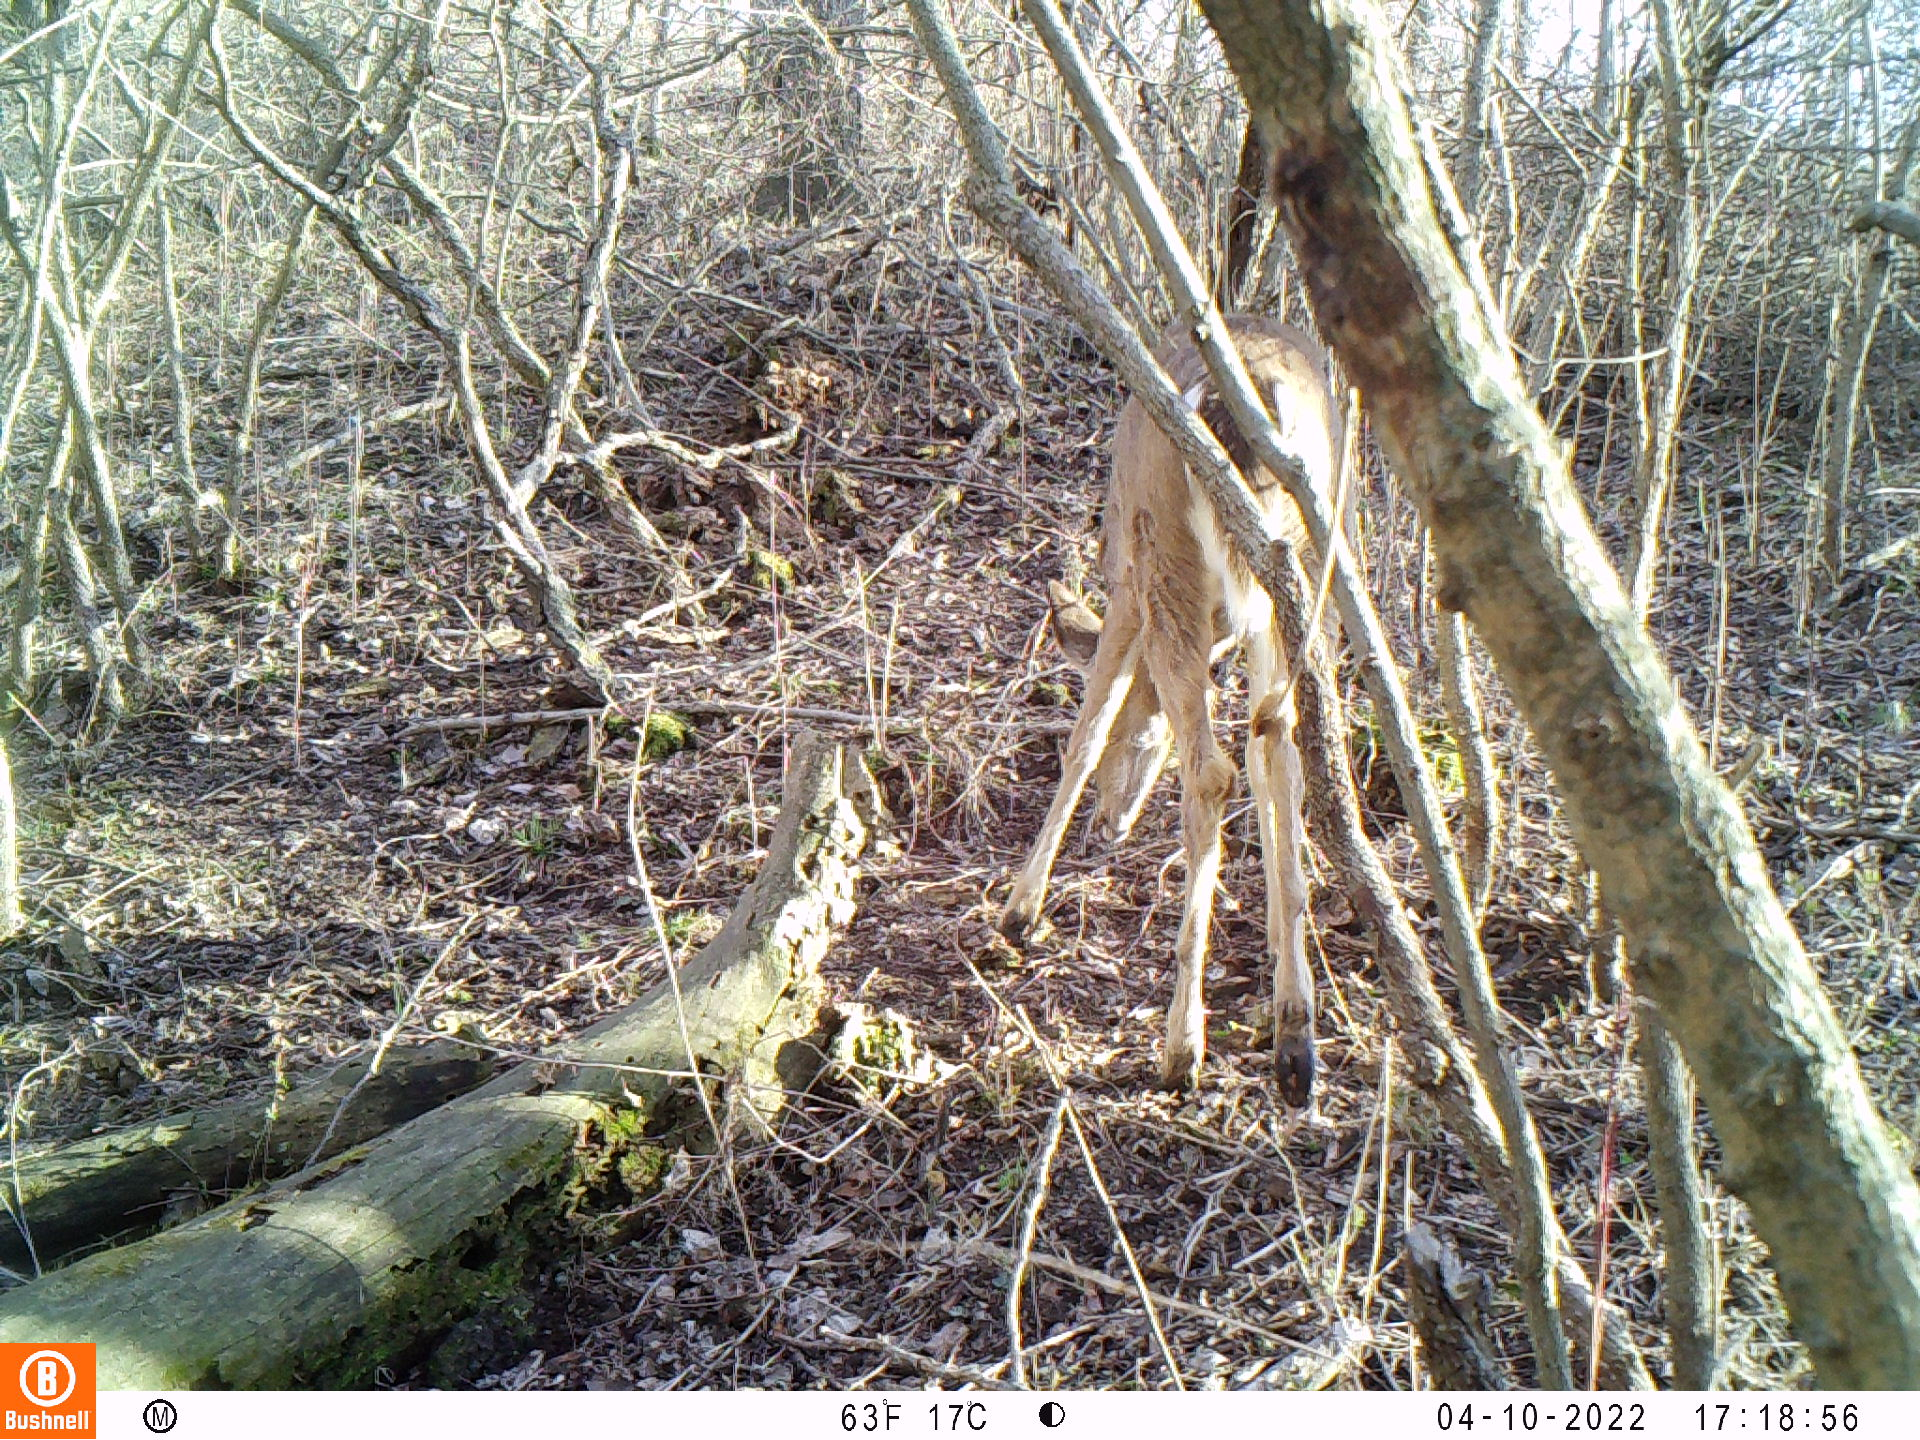Deer: (1002, 307, 1352, 1103)
